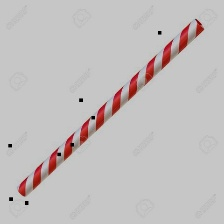drinking_straw: (10, 13, 211, 201)
